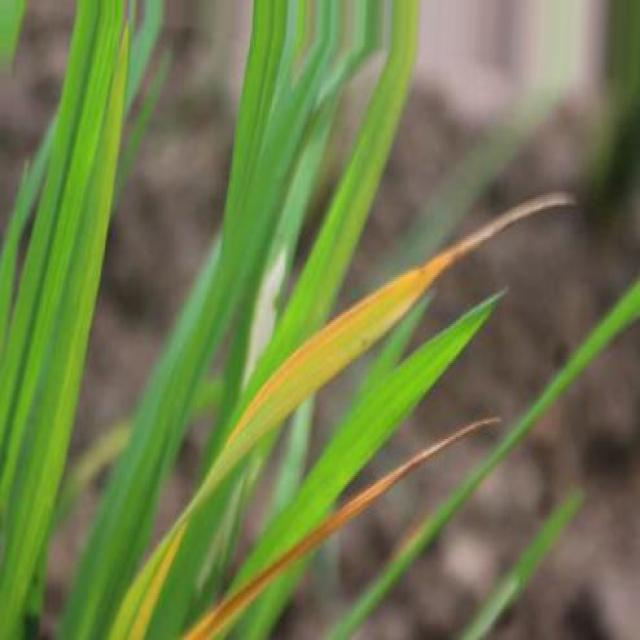Rice Tungro: (181, 192, 573, 517), (184, 419, 500, 639)
